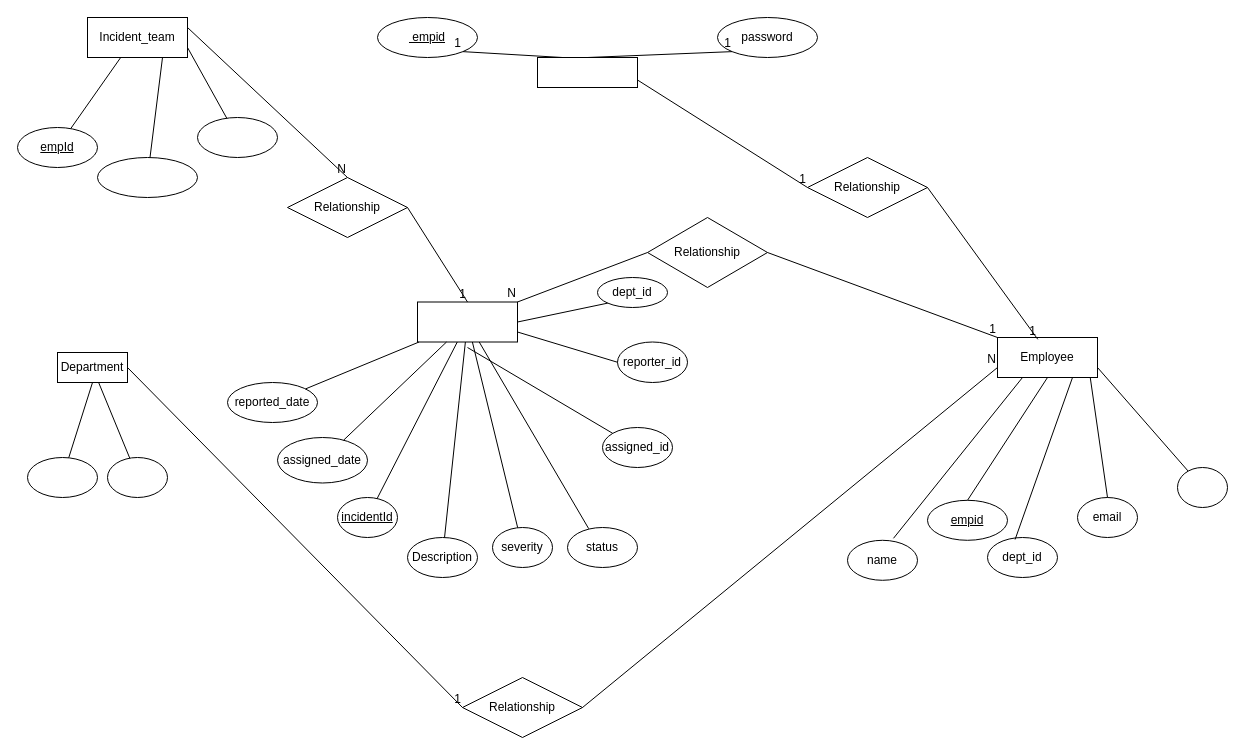
Image size: 1245x755. Some labels were removed from this diagram. The box of each missing label's shape, as (x1, y1, x2, y2) in pixels:
Assigned task count: (96, 156, 198, 198)
dept_name: (26, 456, 98, 498)
deptid: (106, 456, 168, 498)
Incident: (416, 301, 518, 342)
Login: (536, 56, 638, 88)
ph_no: (1176, 466, 1228, 508)
task capacity: (196, 116, 278, 158)
